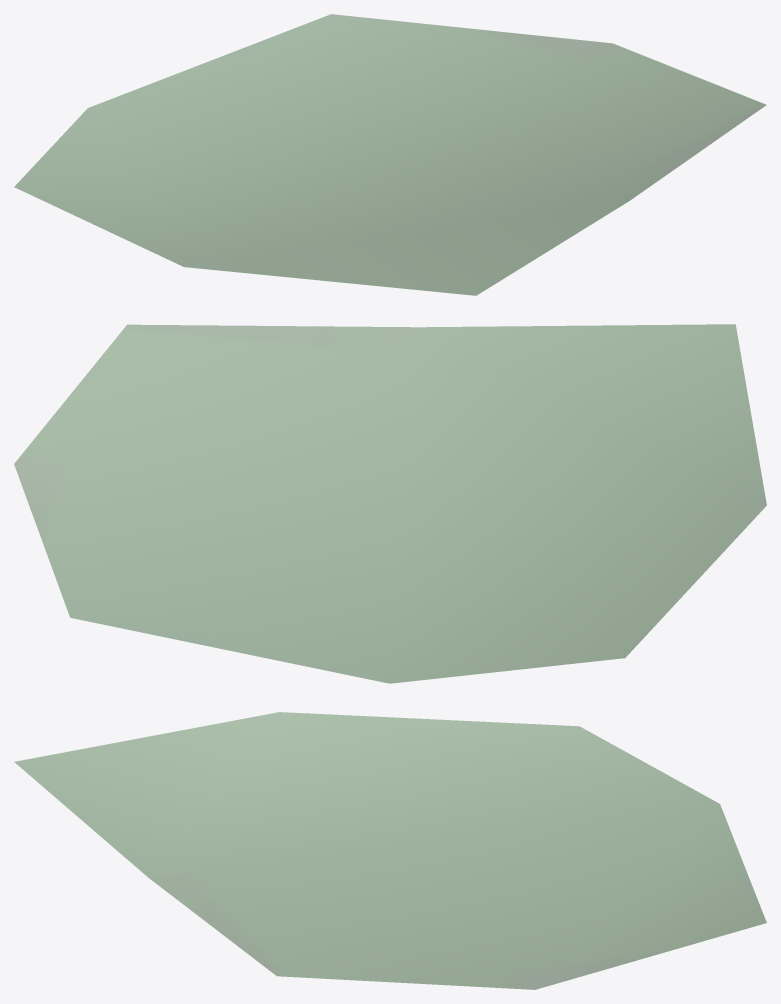
Rendered from TROLLHOLE02_HOLECAP33.fbx.
3 views of the same model, one above another, from view 1: azimuth 30°, elevation 25°; view 2: azimuth 150°, elevation 25°; view 3: azimuth 270°, elevation 25° (orthographic). The views are drawn at different scales.
Visible parts, largest first — view 1: TROLLHOLE02_HOLECAP33; view 2: TROLLHOLE02_HOLECAP33; view 3: TROLLHOLE02_HOLECAP33.
Part boxes in pixels (box(x1,y1,x2,y2)): TROLLHOLE02_HOLECAP33: box(14, 14, 766, 295); TROLLHOLE02_HOLECAP33: box(14, 324, 766, 683); TROLLHOLE02_HOLECAP33: box(14, 712, 766, 989).
Size of the model in its own units: 24339 by 2321 by 26197.
1 material, 1 textured.
